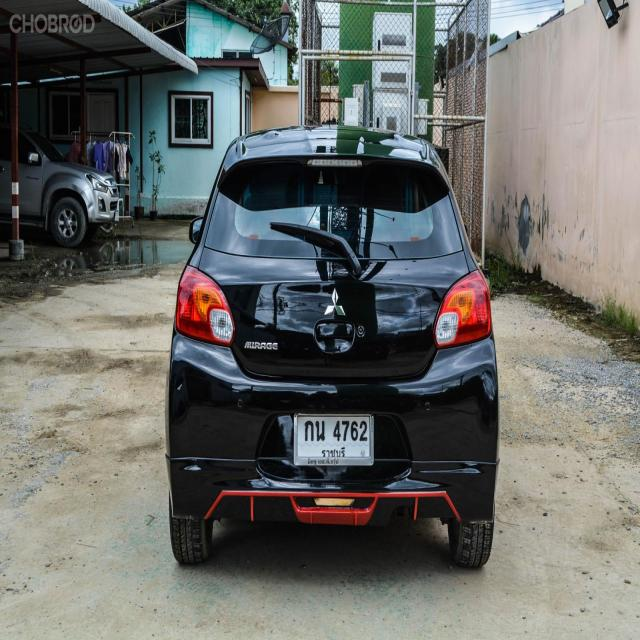license_plate: (294, 411, 374, 467)
